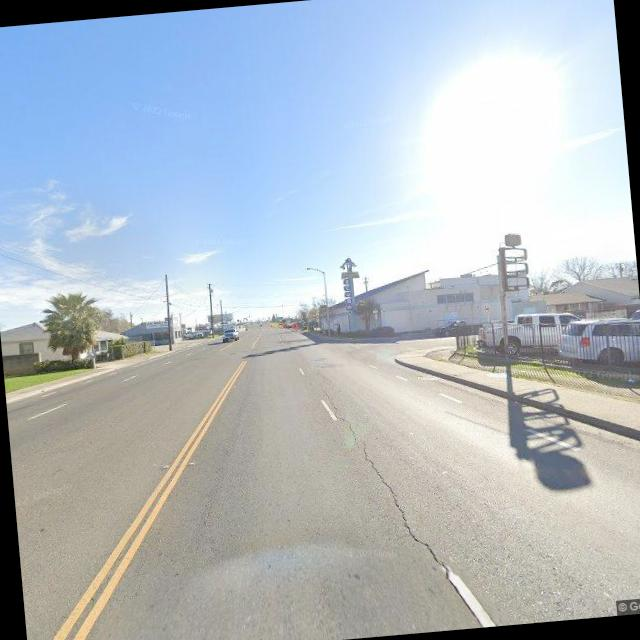crack: (320, 383, 481, 634)
